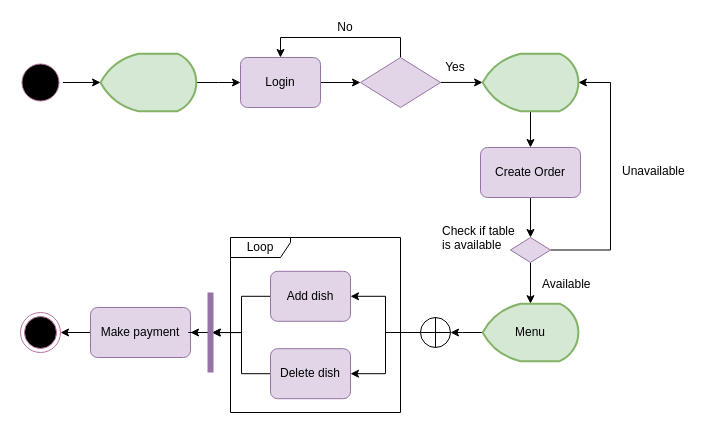
This 717x430 diagram has some shape labels left out. Each missing label, with the box of its shape:
Homepage: (99, 52, 197, 112)
Order page: (481, 52, 579, 112)
Valid?: (360, 56, 440, 108)
